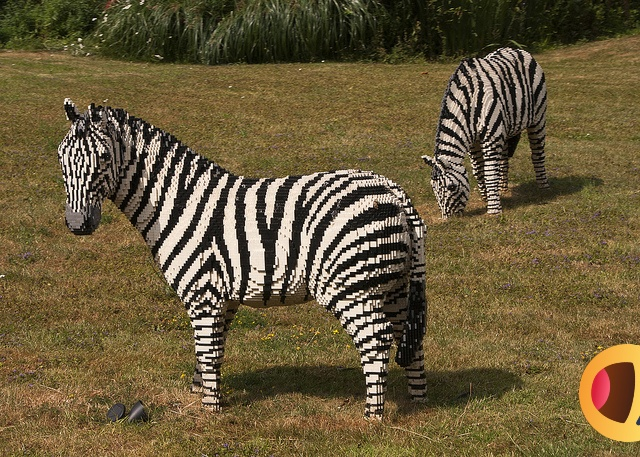haha: (579, 344, 640, 442)
